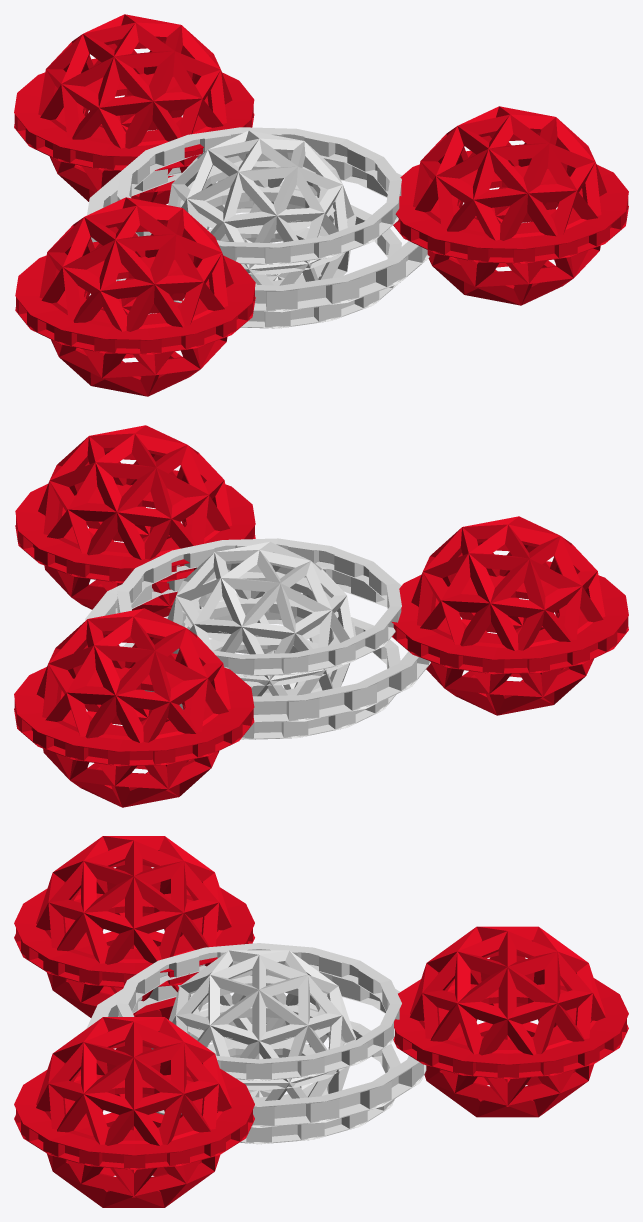
File: mothership.fbx
The picture shows the model from 3 angles, top to bottom: view 1: azimuth 30°, elevation 25°; view 2: azimuth 150°, elevation 25°; view 3: azimuth 270°, elevation 25°; orthographic projection.
Parts seen in each view (by area): view 1: Icosphere.001, Cylinder.005, Cylinder.002, Cylinder.003; view 2: Icosphere.001, Cylinder.003, Cylinder.005, Cylinder.002; view 3: Icosphere.001, Cylinder.002, Cylinder.003, Cylinder.005.
Boxes of the visible parts, x1,y1,x2,y2 form: Icosphere.001: (87, 127, 429, 328); Cylinder.005: (15, 197, 255, 396); Cylinder.002: (393, 106, 628, 305); Cylinder.003: (14, 14, 254, 204); Icosphere.001: (85, 538, 430, 739); Cylinder.003: (14, 608, 254, 807); Cylinder.005: (392, 516, 628, 715); Cylinder.002: (15, 425, 255, 616); Icosphere.001: (86, 943, 426, 1144); Cylinder.002: (14, 1017, 254, 1207); Cylinder.003: (393, 926, 628, 1117); Cylinder.005: (14, 836, 254, 1019).
Size of the model in its own units: 13439 by 4473 by 12339.
